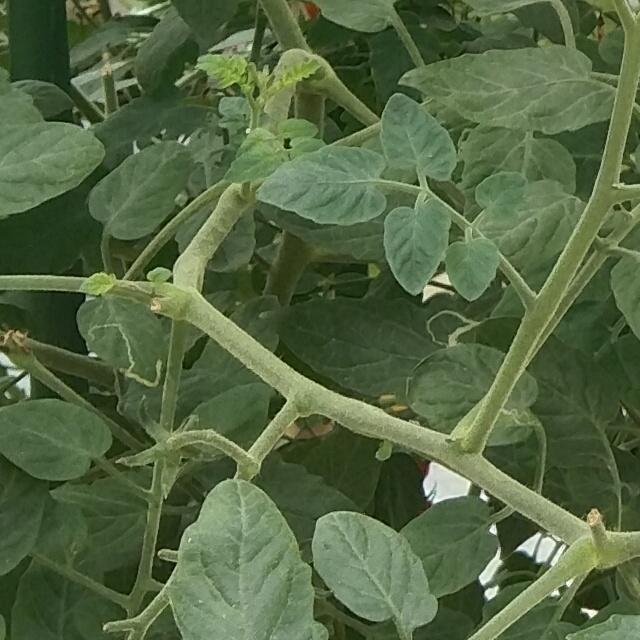Tomato target spot leaf: (257, 290, 524, 400), (404, 343, 538, 448), (74, 293, 168, 398)
